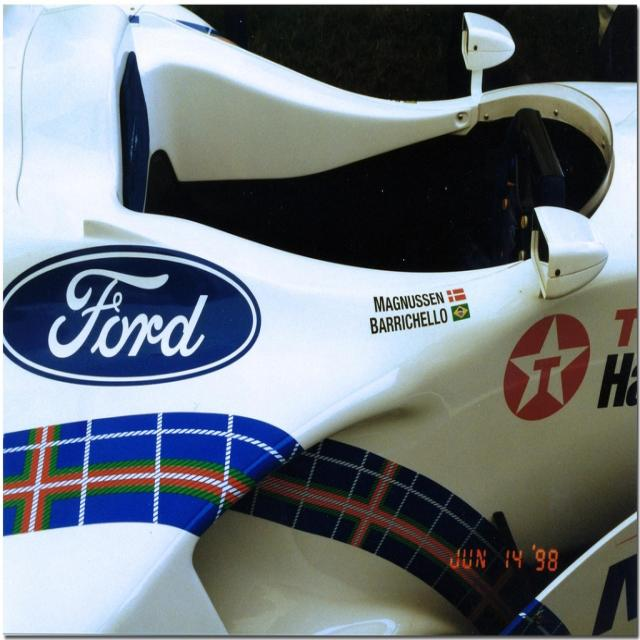ford: (2, 241, 266, 392)
